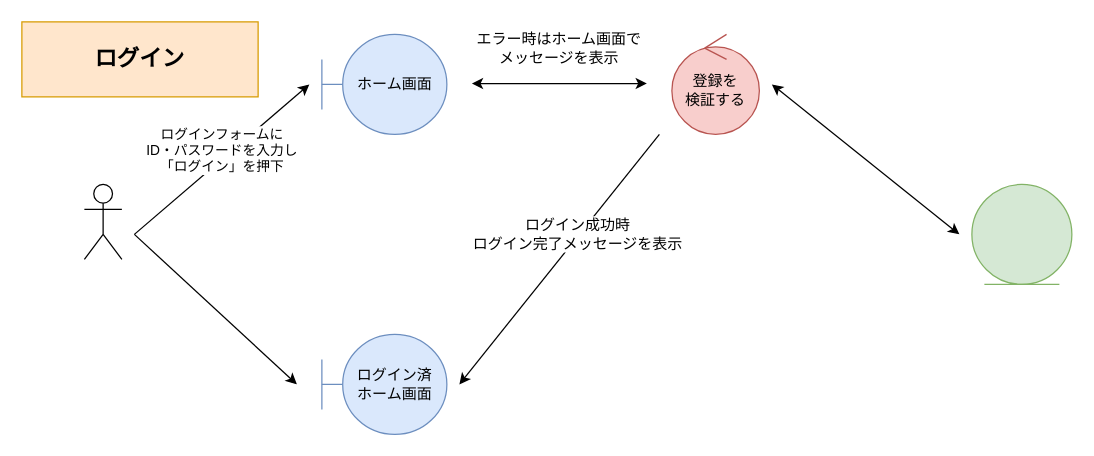
Some shapes in this 1094 by 456 pixel diagram are drawn without their labels. The shapes that lost their labels are listed below. From the top down, each one's centre as x and y in pixels, then its label:
At (102,221): "管理者 正規社員 非正規社員".
At (1021,233): "従業員情報".
